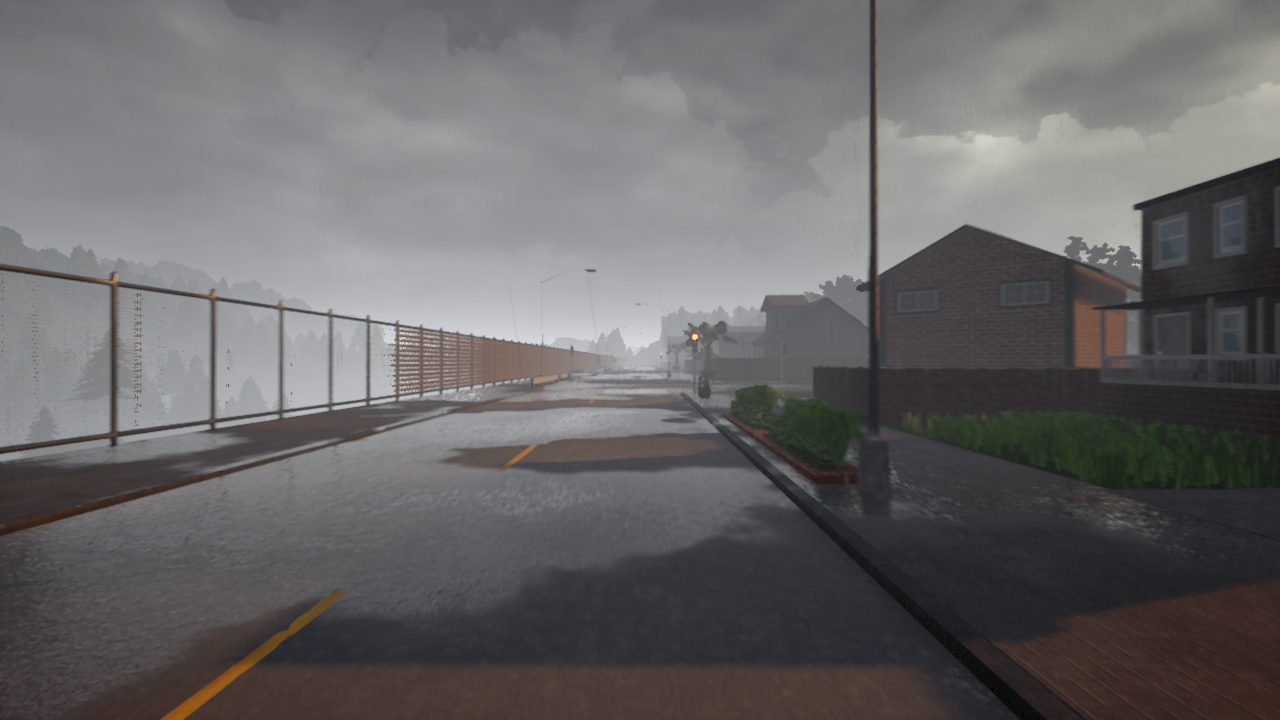red: (689, 332, 699, 355)
